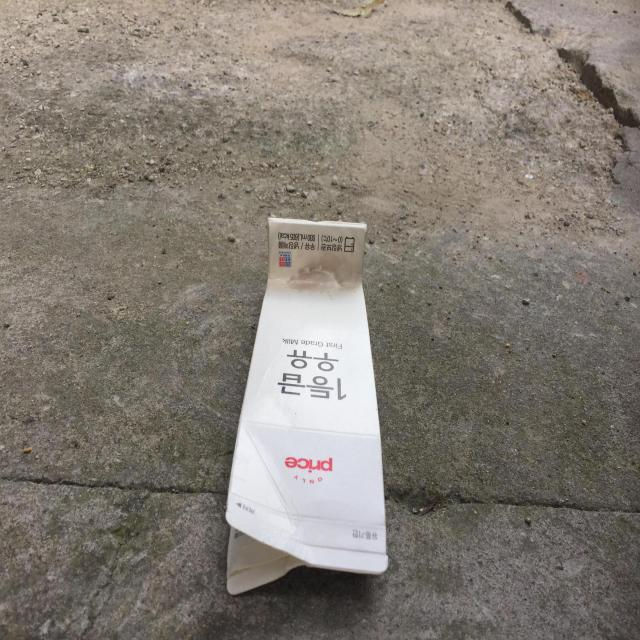paperpack: (226, 217, 388, 595)
